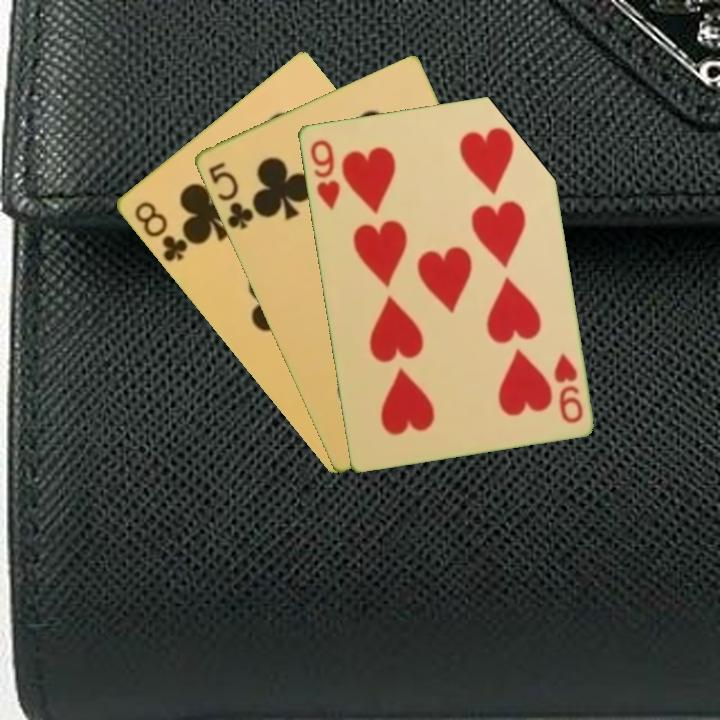5c: (204, 158, 256, 232)
8c: (130, 197, 190, 265)
9h: (549, 349, 586, 426), (306, 136, 343, 212)
